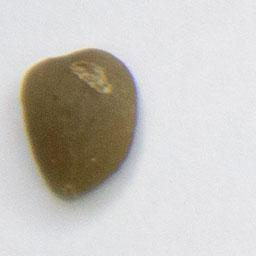premium: (19, 45, 141, 199)
